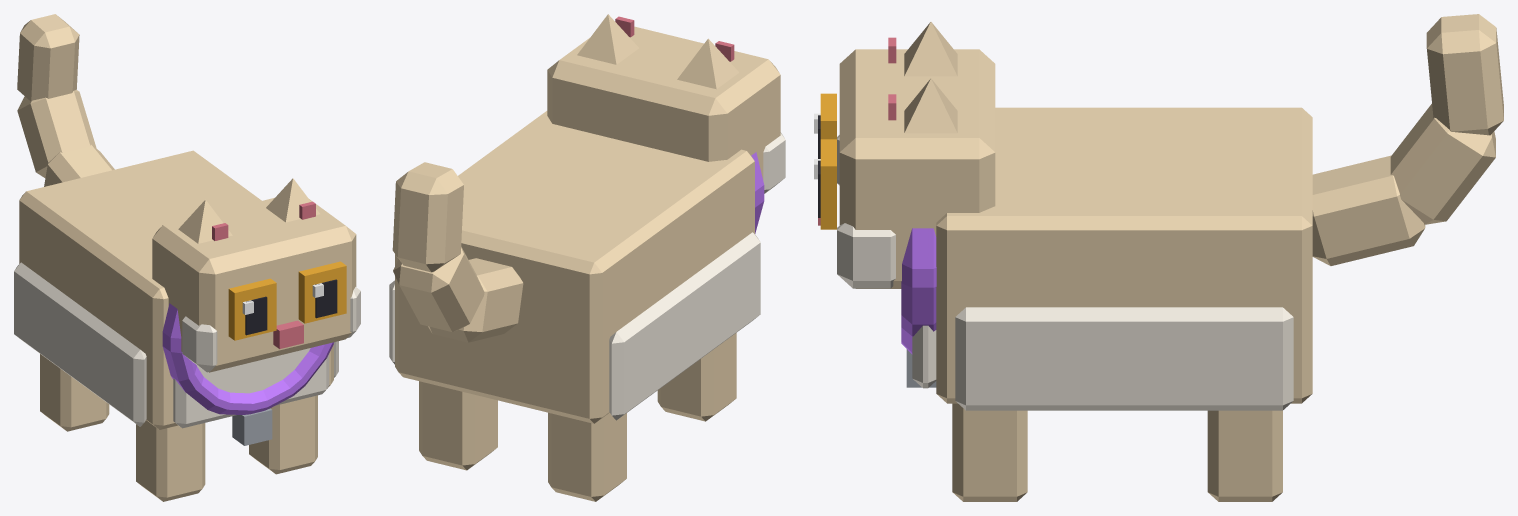
Rendered from CatCafe_Cat_Persian.fbx.
3 views of the same model, side by side, from view 1: azimuth 30°, elevation 25°; view 2: azimuth 150°, elevation 25°; view 3: azimuth 270°, elevation 25° (orthographic). The views are drawn at different scales.
Visible parts, largest first — view 1: CatCafe_Cat_Persian_Body, CatCafe_Cat_Persian_Head, CatCafe_Cat_Persian_Tail; view 2: CatCafe_Cat_Persian_Body, CatCafe_Cat_Persian_Head, CatCafe_Cat_Persian_Tail; view 3: CatCafe_Cat_Persian_Body, CatCafe_Cat_Persian_Head, CatCafe_Cat_Persian_Tail.
Part boxes in pixels (<box>): CatCafe_Cat_Persian_Body: <box>14,150,338,501</box>; CatCafe_Cat_Persian_Head: <box>152,178,360,372</box>; CatCafe_Cat_Persian_Tail: <box>17,14,114,186</box>; CatCafe_Cat_Persian_Body: <box>389,111,764,501</box>; CatCafe_Cat_Persian_Head: <box>547,14,785,193</box>; CatCafe_Cat_Persian_Tail: <box>392,162,523,342</box>; CatCafe_Cat_Persian_Body: <box>901,107,1312,501</box>; CatCafe_Cat_Persian_Head: <box>814,22,995,288</box>; CatCafe_Cat_Persian_Tail: <box>1312,14,1503,265</box>.
Size of the model in its own units: 1.18 by 1.77 by 2.57.
Materials: 1 (1 with a texture image).
